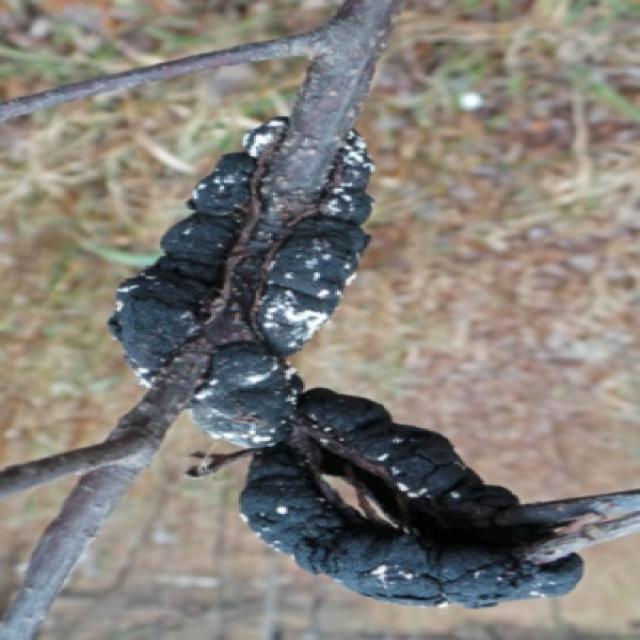Black_knot: (104, 113, 638, 607)
